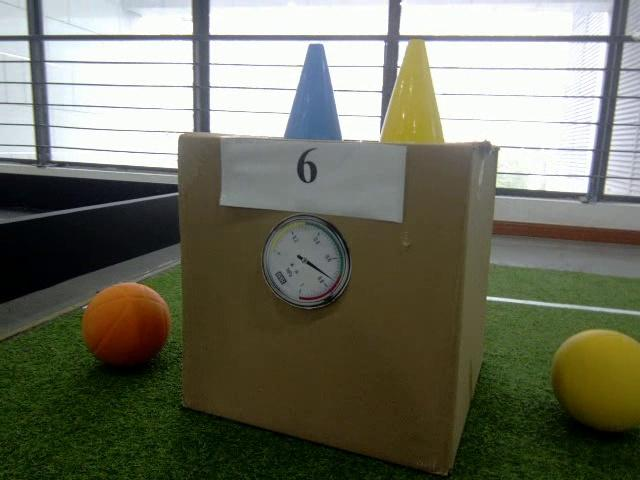6: (295, 146, 320, 186)
Dashboard: (262, 214, 351, 312)
blue_barrel: (280, 44, 346, 142)
orange_ball: (81, 282, 172, 364)
ssi: (273, 269, 288, 286)
yellow_ball: (547, 328, 640, 431)
yellow_barrel: (376, 39, 449, 144)
